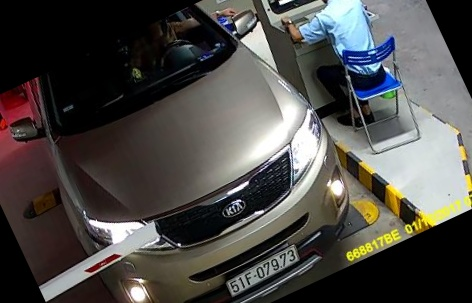plate: (222, 246, 308, 299)
